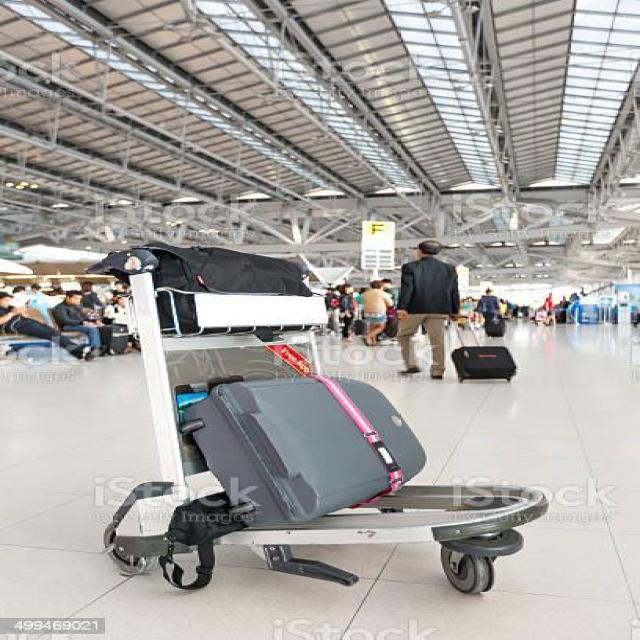Person: (397, 241, 459, 381)
